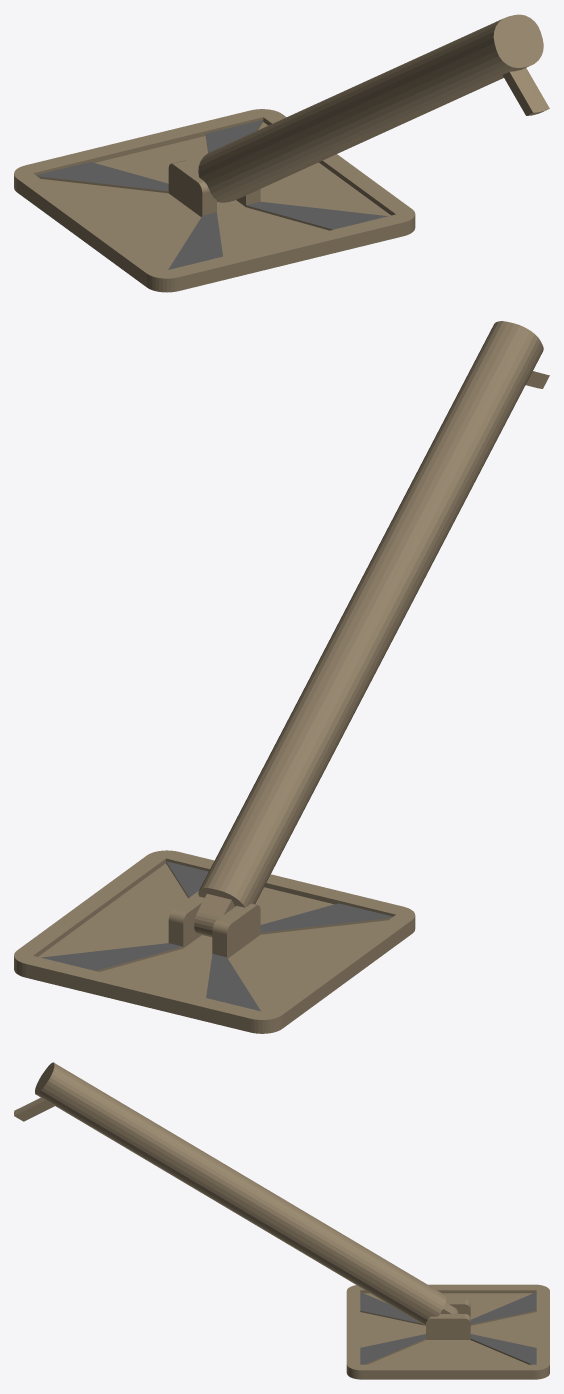
File: mayquet2.fbx
The picture shows the model from 3 angles, top to bottom: view 1: azimuth 30°, elevation 25°; view 2: azimuth 150°, elevation 25°; view 3: azimuth 270°, elevation 25°; orthographic projection. The views are drawn at different scales.
Parts seen in each view (by area): view 1: de, than; view 2: de, than; view 3: than, de.
Boxes of the visible parts, x1,y1,x2,y2 form: de: (14,109,415,292); than: (198,14,549,202); de: (14,850,415,1033); than: (194,321,549,937); than: (14,1062,458,1325); de: (346,1284,549,1379).
Size of the model in its own units: 200 by 295 by 528.
